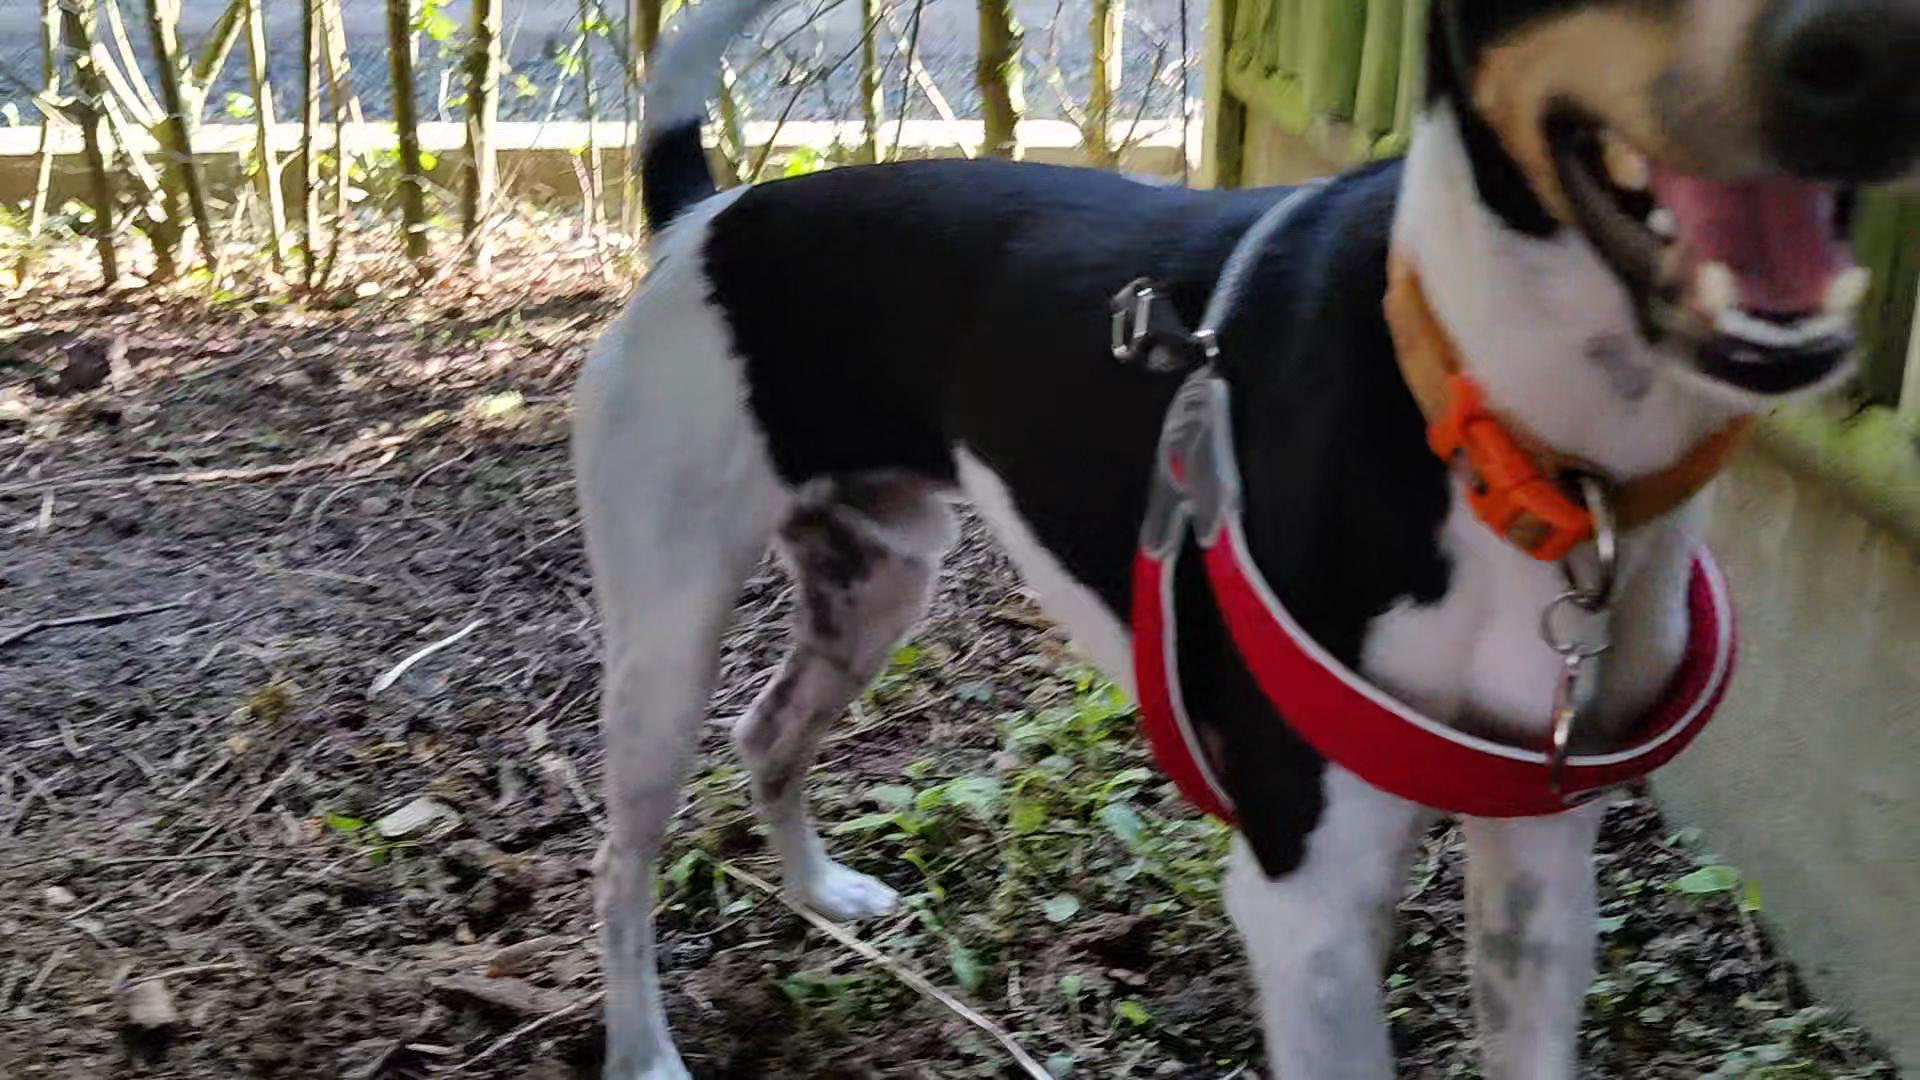Dog: (525, 0, 1919, 1079)
